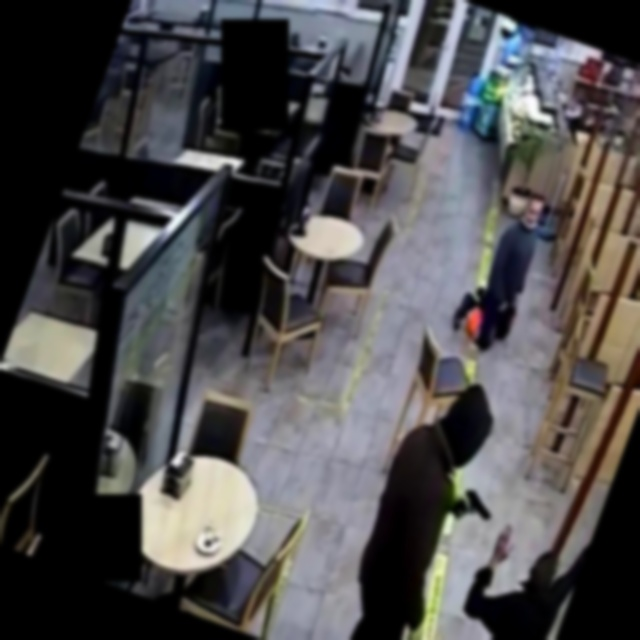gun: (440, 473, 509, 545)
